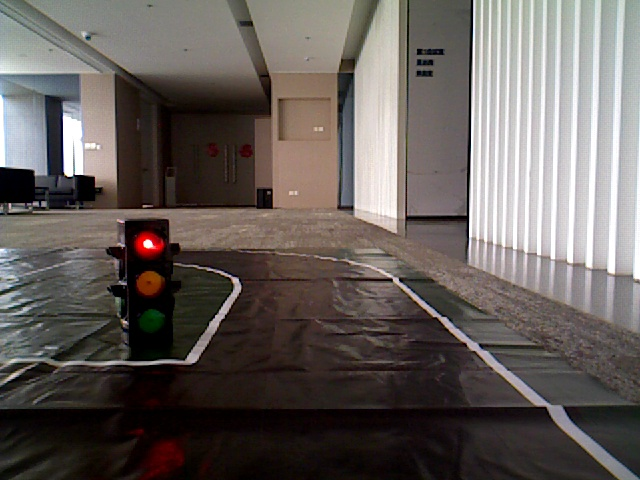red: (123, 223, 173, 342)
